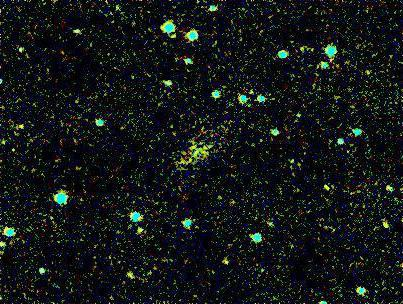star: (369, 210, 399, 240)
